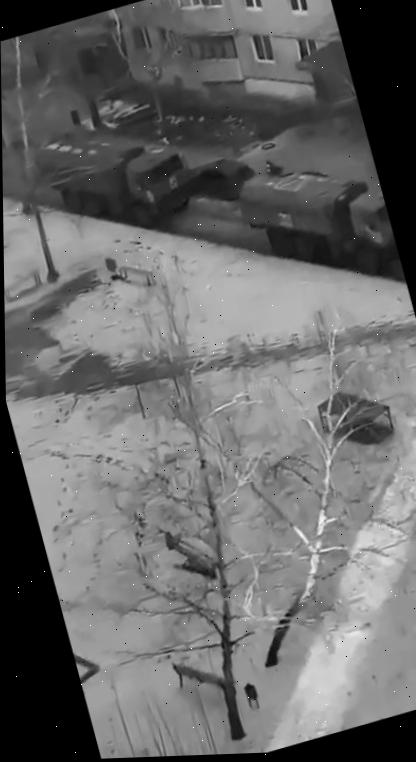truck: (229, 139, 403, 311), (28, 98, 203, 257)
